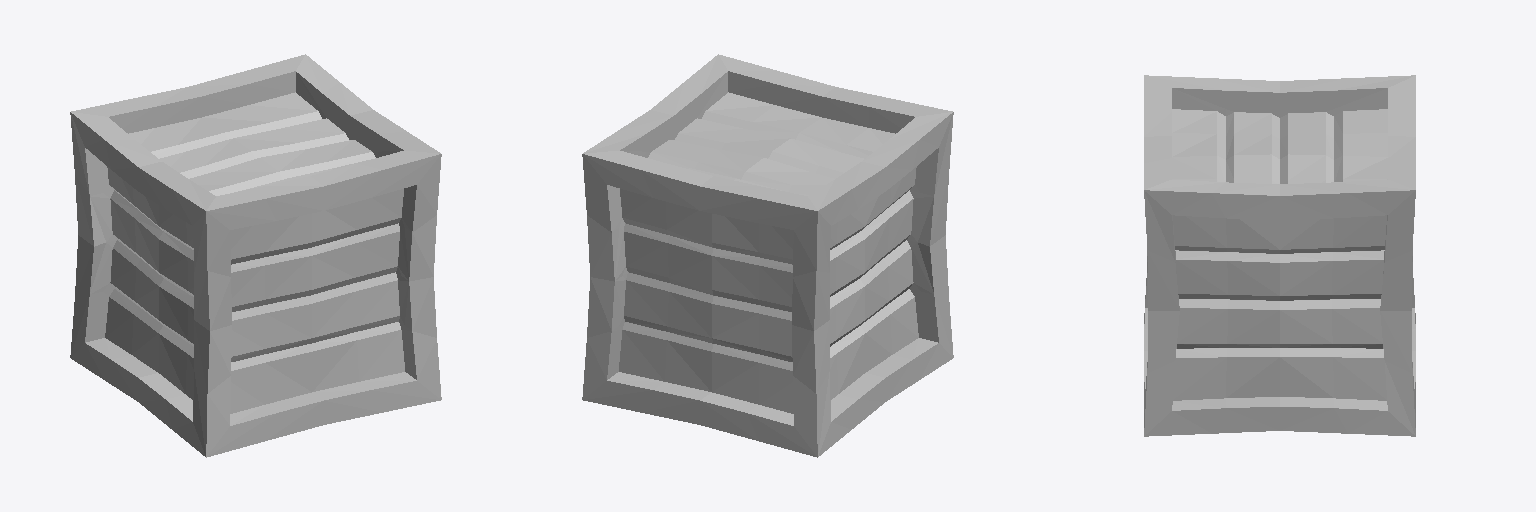
The model's file is crate.obj.
3 renders of one model, left to right at view 1: azimuth 30°, elevation 25°; view 2: azimuth 150°, elevation 25°; view 3: azimuth 270°, elevation 25°, orthographic.
Parts seen in each view (by area): view 1: Cube.001; view 2: Cube.001; view 3: Cube.001.
Boxes of the visible parts, <box> form: Cube.001: <box>70,54,441,457</box>; Cube.001: <box>582,54,953,457</box>; Cube.001: <box>1144,75,1415,436</box>.
Bounding box in the file's own units: 2 × 2 × 2.